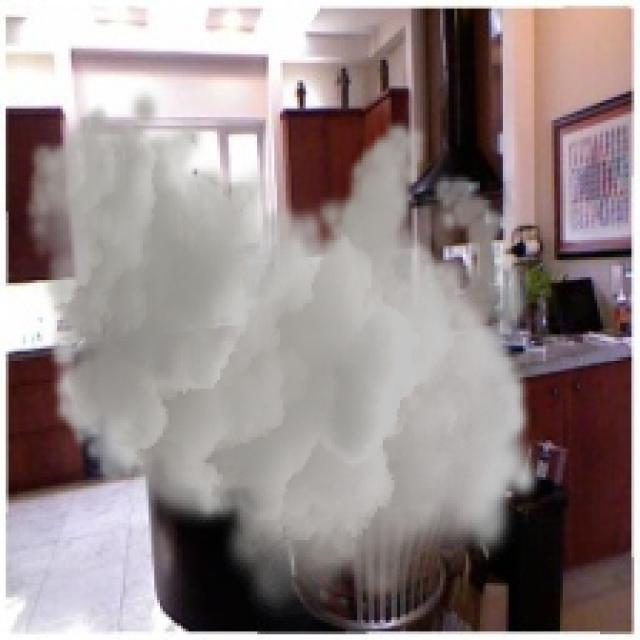Smoke: (23, 86, 543, 623)
